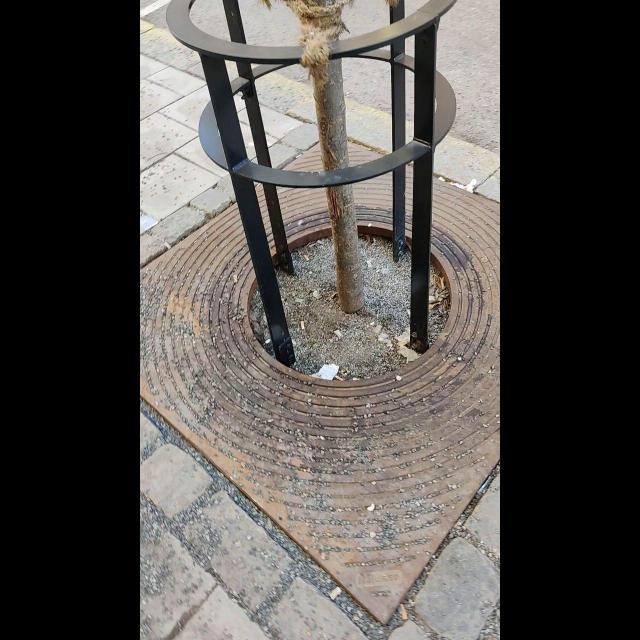cigarette: (327, 586, 340, 600), (336, 329, 344, 341), (163, 238, 172, 248), (315, 238, 326, 246), (299, 320, 306, 331), (232, 273, 238, 284), (440, 280, 446, 291), (303, 254, 311, 261), (335, 376, 343, 380)
